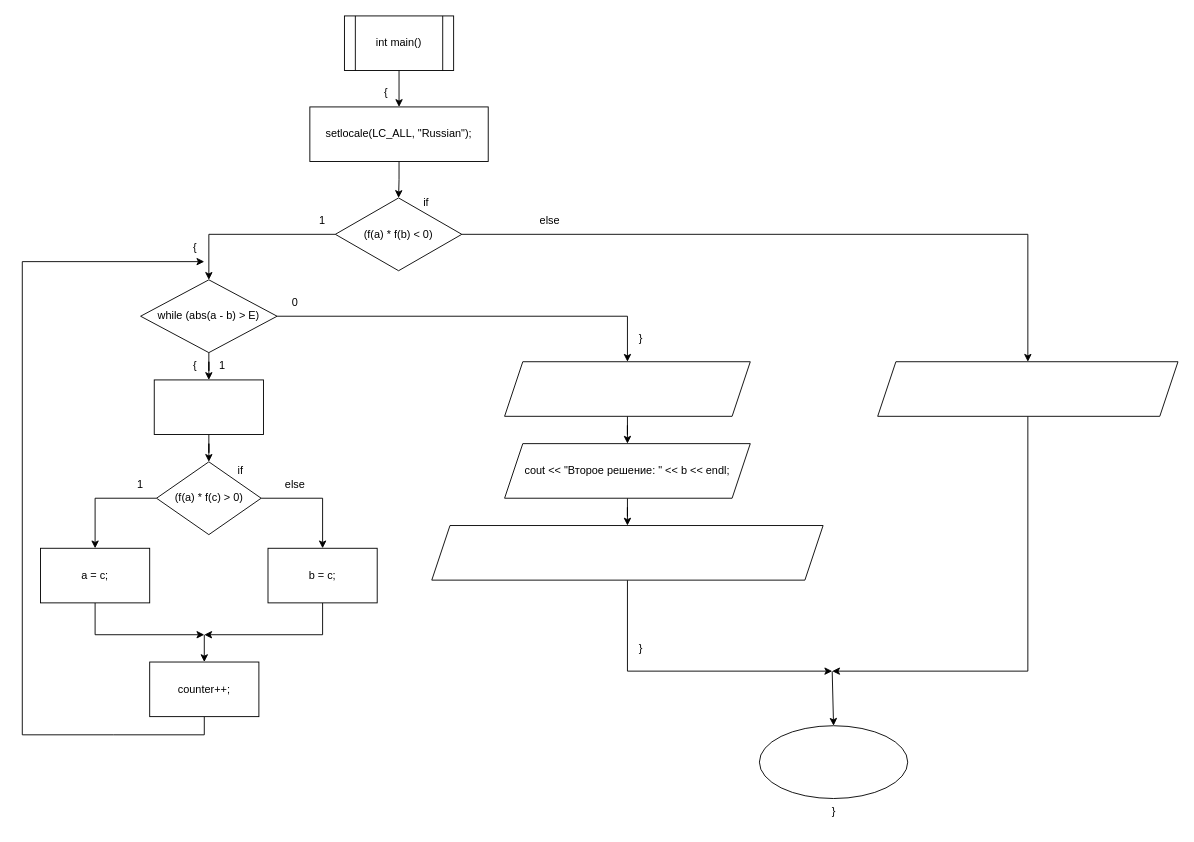
The diagram is 1194 pixels wide and 842 high, and some of its shapes have lost their labels. Here are the shapes that lost their labels. From the top down, the centre of each, then its label:
point (208, 407): c = (a + b) / 2;
point (627, 388): cout << "Первое решение: " << a << endl;
point (1027, 388): cout << "Решений на выделенном промежутке нет!";
point (627, 552): cout << "Количество потребовавшихся делений: " << counter << endl;
point (833, 762): return 0;
